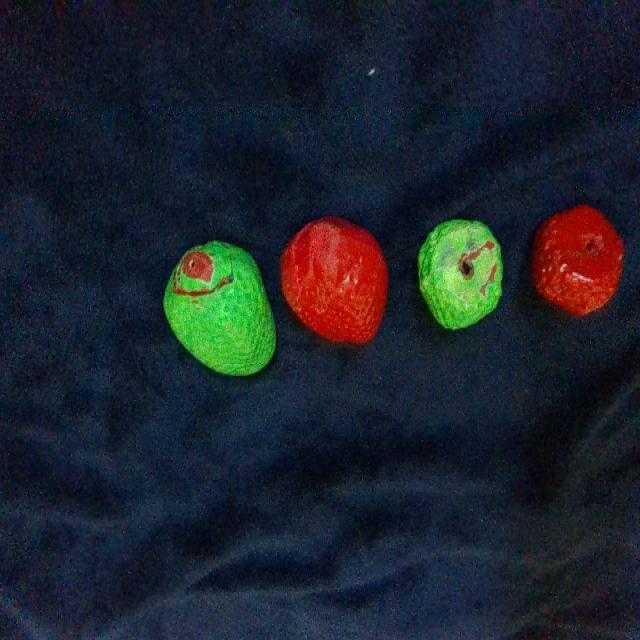chica_roja: (533, 205, 624, 315)
grande_roja: (281, 217, 388, 341)
verde: (164, 241, 274, 375), (419, 223, 501, 328)
